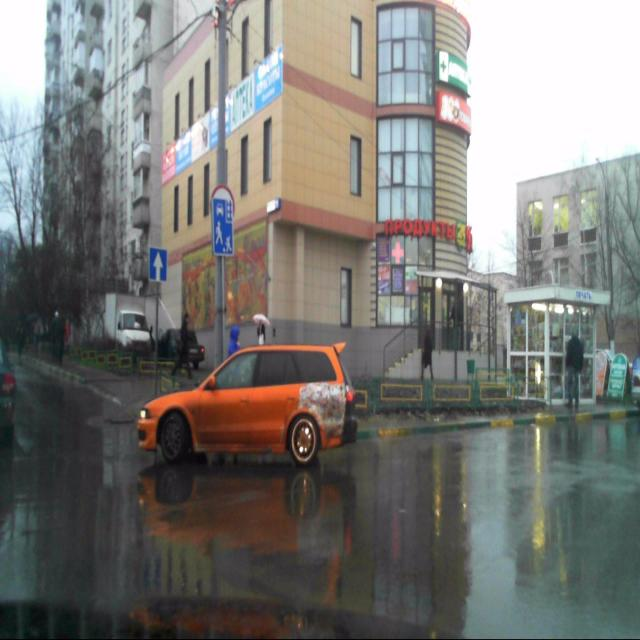road sign: (150, 247, 168, 281)
